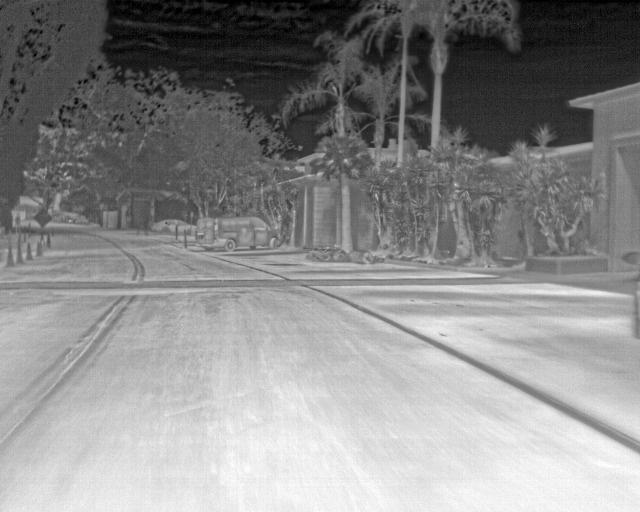car: (193, 214, 280, 251), (152, 218, 195, 234)
